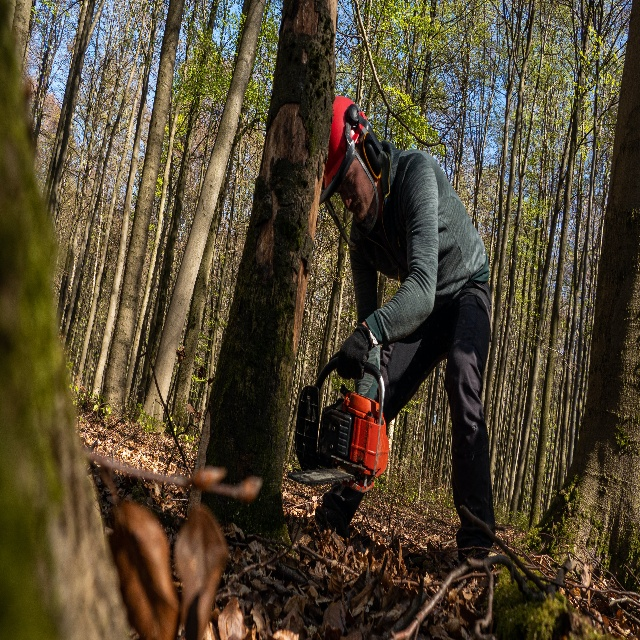Guantes: (336, 329, 368, 381)
